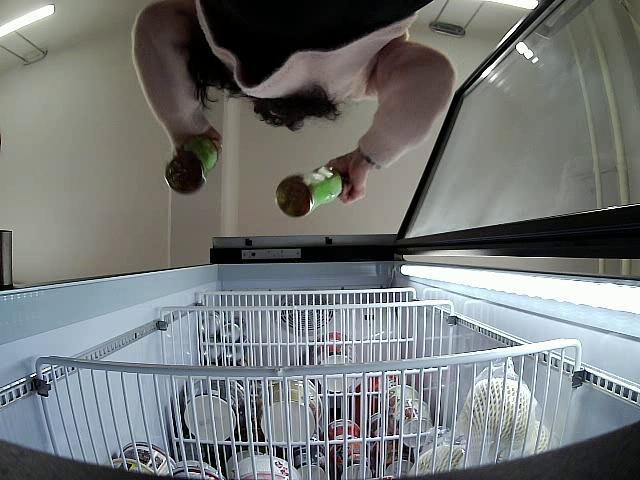19_17cha: (276, 168, 345, 220), (166, 138, 220, 193)
